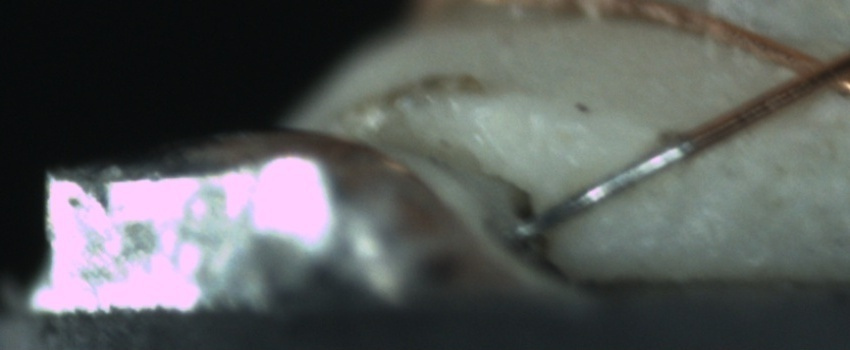CL: (771, 37, 848, 103)
TS: (521, 138, 689, 242)
